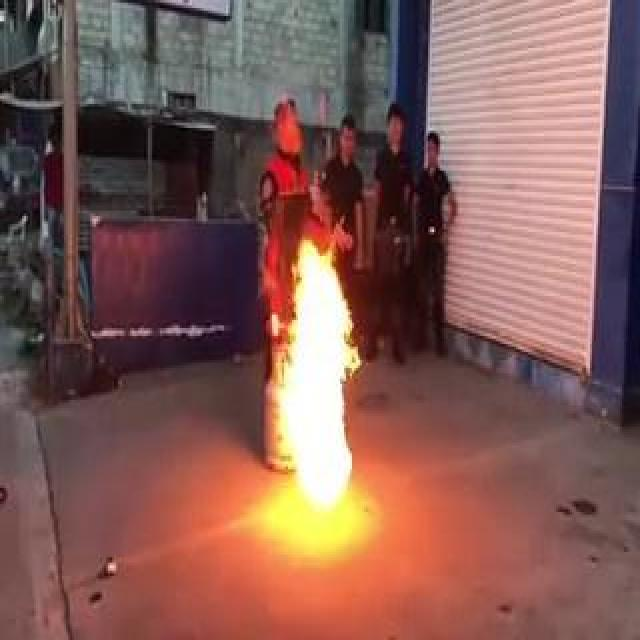Fire: (269, 233, 365, 508)
